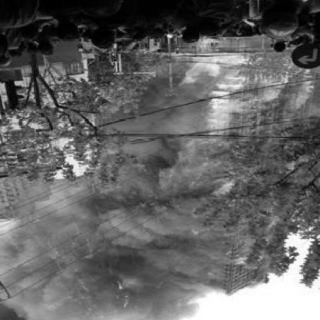Fire: (172, 40, 255, 148), (178, 158, 235, 202), (300, 70, 320, 98)
Smoke: (9, 201, 229, 319)
